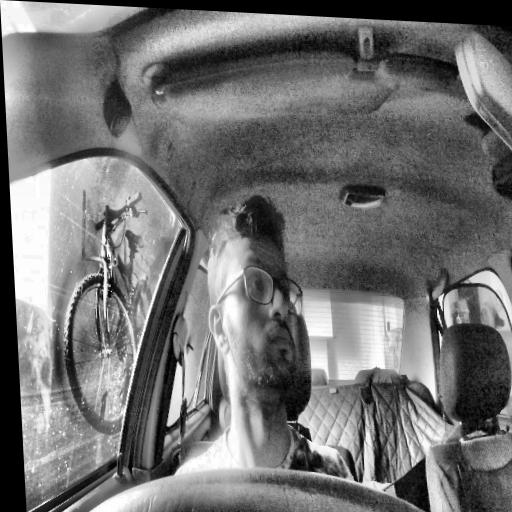awake: (202, 194, 309, 400)
